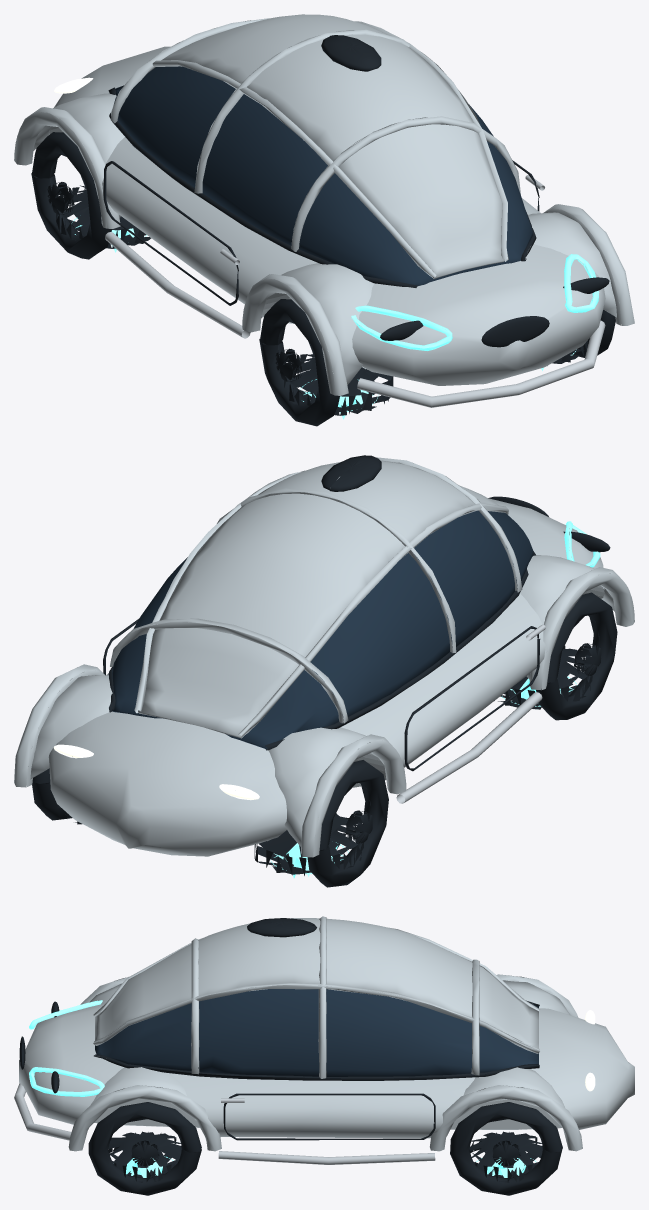
The model's file is car_0.glb.
3 views of the same model, one above another, from view 1: azimuth 30°, elevation 25°; view 2: azimuth 150°, elevation 25°; view 3: azimuth 270°, elevation 25° (orthographic). The views are drawn at different scales.
Parts seen in each view (by area): view 1: body; view 2: body; view 3: body.
Boxes of the visible parts, box(x1,y1,x2,y2) form: body: box(14, 14, 634, 426); body: box(14, 455, 634, 887); body: box(14, 916, 634, 1195).
Size of the model in its own units: 1.92 by 1.62 by 4.15.
